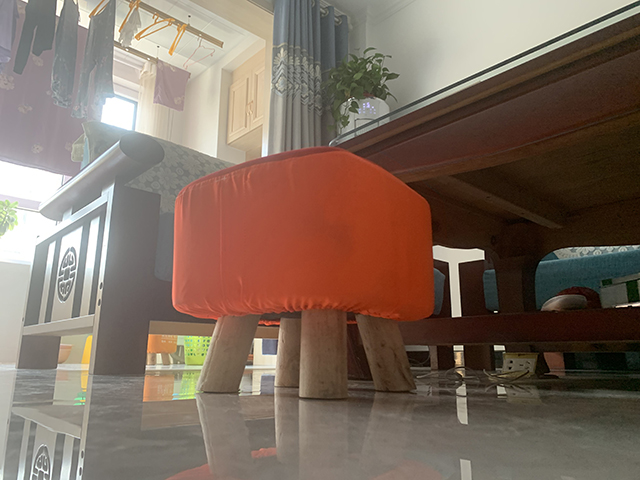sofa: (9, 117, 238, 378)
stool: (170, 144, 436, 401), (146, 334, 178, 365)
table: (329, 1, 640, 383)
wire: (415, 365, 530, 385)
